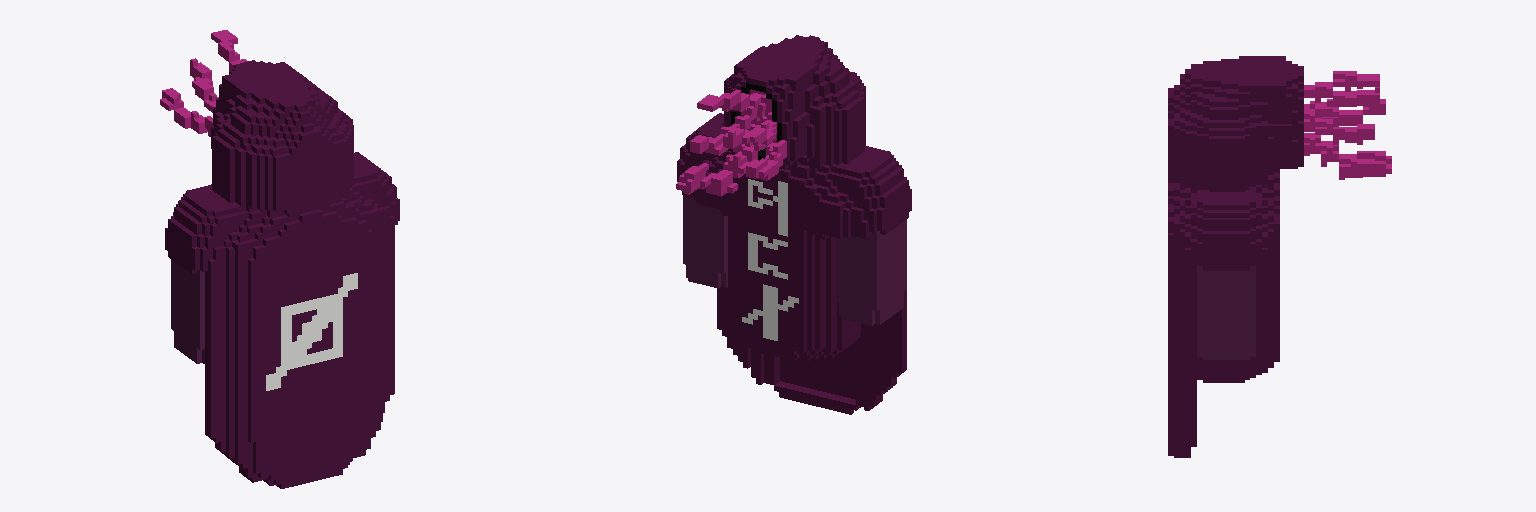
3 views of the same model, side by side, from view 1: azimuth 30°, elevation 25°; view 2: azimuth 150°, elevation 25°; view 3: azimuth 270°, elevation 25° (orthographic).
Visible parts, largest first — view 1: object 1; view 2: object 1; view 3: object 1.
Part boxes in pixels (x1,y1,x2,y2): object 1: (160,30,399,488); object 1: (676,35,911,414); object 1: (1168,56,1391,457).
Bounding box in the file's own units: 4 × 6.9 × 3.8.
1 materials, 1 textured.